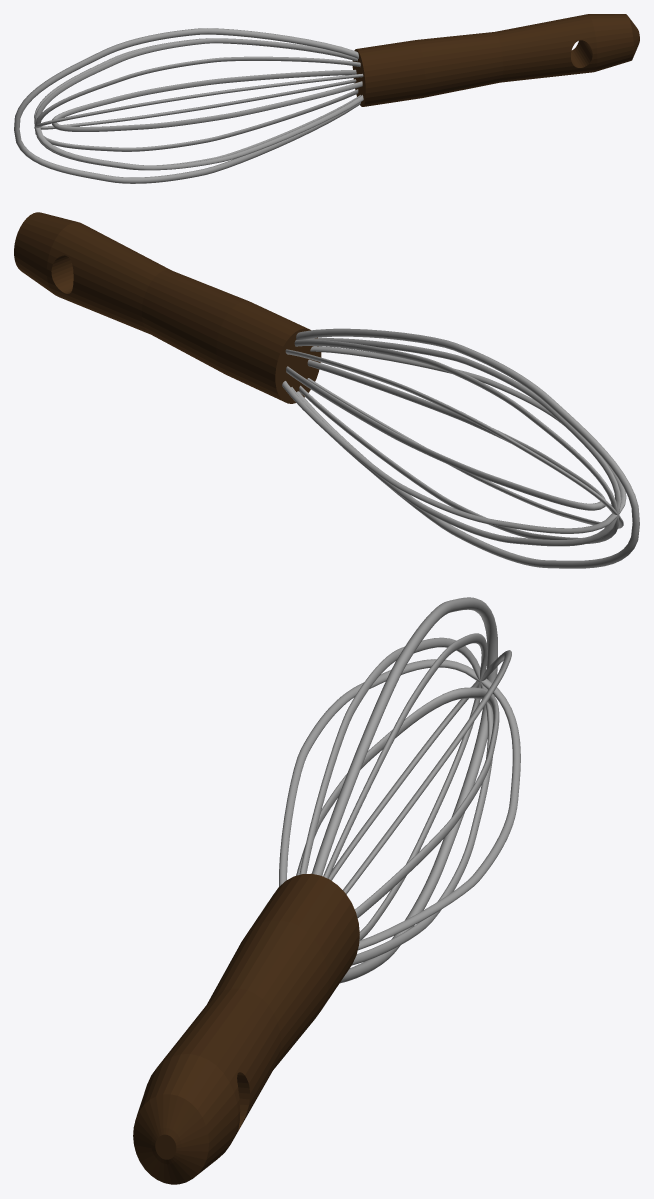
The model's file is whisk1.fbx.
3 renders of one model, top to bottom at view 1: azimuth 30°, elevation 25°; view 2: azimuth 150°, elevation 25°; view 3: azimuth 270°, elevation 25°, orthographic. The views are drawn at different scales.
Parts seen in each view (by area): view 1: BézierCurve.004, Whisk; view 2: BézierCurve.004, Whisk; view 3: Whisk, BézierCurve.004.
Boxes of the visible parts, left/top/right/bottom form: BézierCurve.004: left=14, top=28, right=363, bottom=183; Whisk: left=352, top=14, right=639, bottom=106; BézierCurve.004: left=282, top=328, right=639, bottom=568; Whisk: left=14, top=212, right=321, bottom=403; Whisk: left=133, top=873, right=359, bottom=1184; BézierCurve.004: left=279, top=597, right=520, bottom=983.
Bounding box in the file's own units: 491 × 128 × 152.
